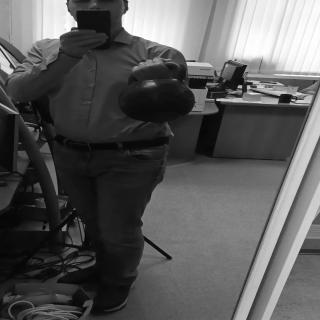kettlebell: (124, 63, 197, 125)
